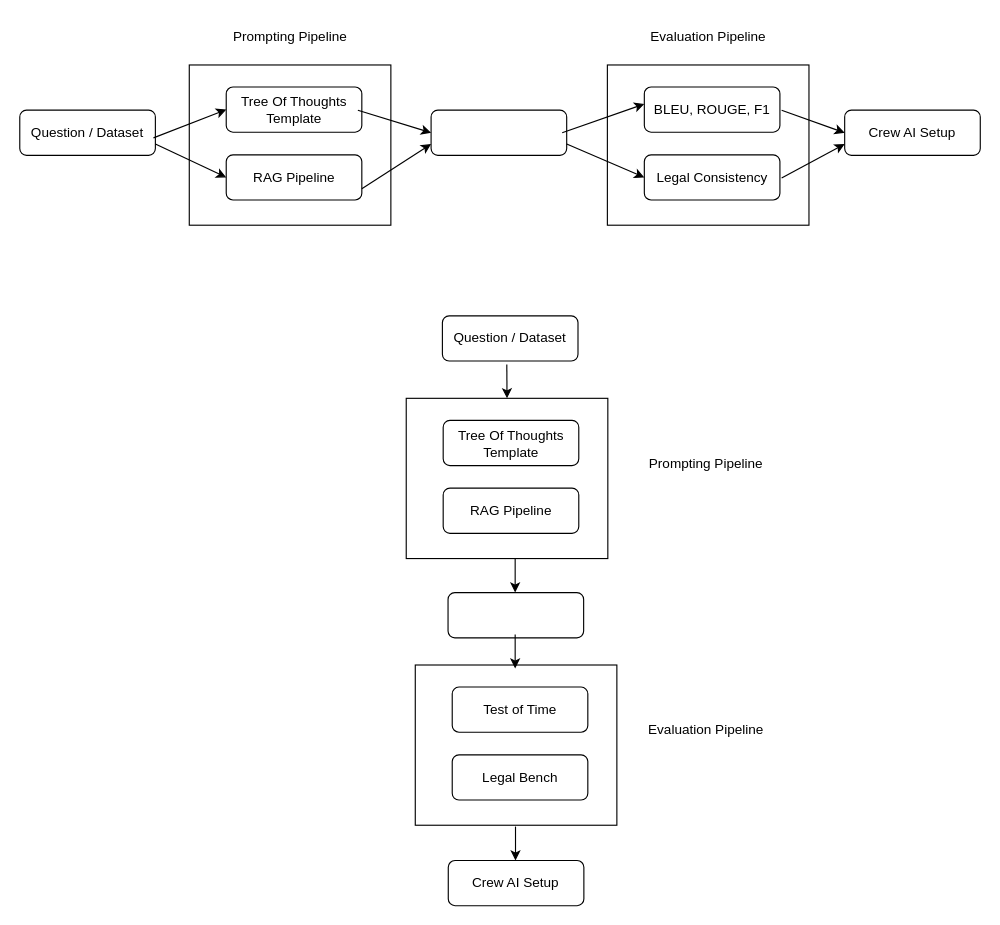
Some shapes in this 1000 by 925 pixel diagram are drawn without their labels. The shapes that lost their labels are listed below. From the top down, each one's centre as x and y in pixels, then its label:
the point at 498,132: Legal LLM
the point at 515,615: LLM
